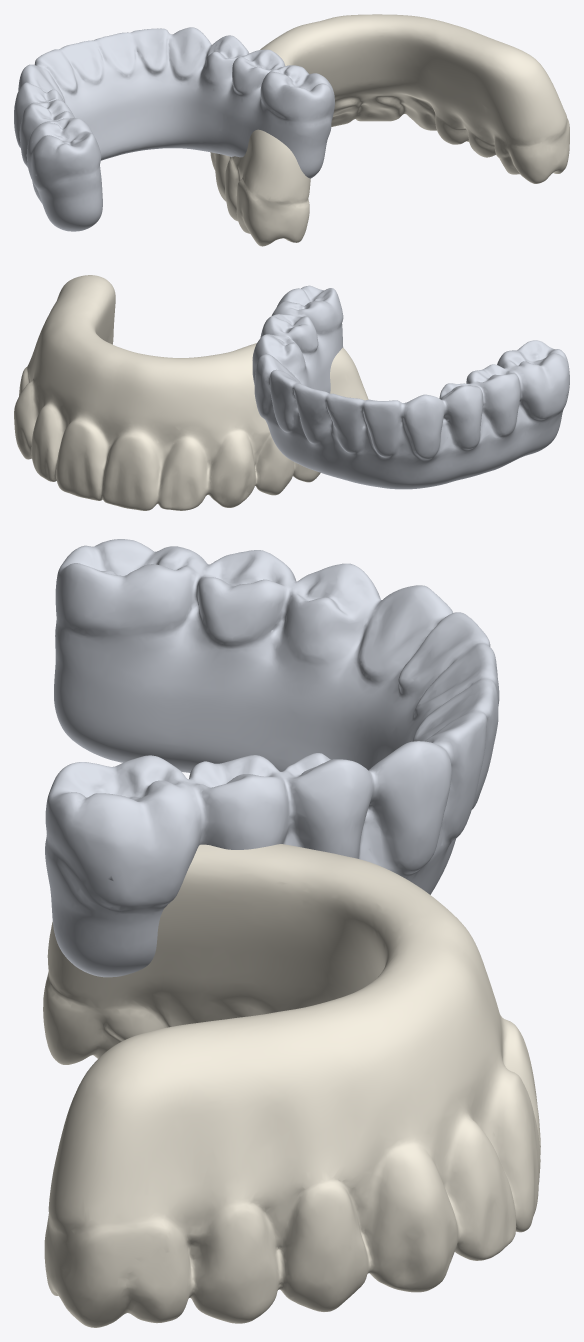
Rendered from oclusion-clase1-ejemplo.glb.
3 renders of one model, top to bottom at view 1: azimuth 30°, elevation 25°; view 2: azimuth 150°, elevation 25°; view 3: azimuth 270°, elevation 25°, orthographic. The views are drawn at different scales.
Visible parts, largest first — view 1: Waxup inferior|Lower waxup, Waxup superior|Upper waxup; view 2: Waxup superior|Upper waxup, Waxup inferior|Lower waxup; view 3: Waxup superior|Upper waxup, Waxup inferior|Lower waxup.
Boxes of the visible parts, x1=… form: Waxup inferior|Lower waxup: x1=14, y1=27, x2=334, y2=231; Waxup superior|Upper waxup: x1=210, y1=14, x2=569, y2=246; Waxup superior|Upper waxup: x1=14, y1=275, x2=368, y2=510; Waxup inferior|Lower waxup: x1=252, y1=285, x2=569, y2=489; Waxup superior|Upper waxup: x1=43, y1=844, x2=540, y2=1327; Waxup inferior|Lower waxup: x1=45, y1=539, x2=499, y2=977.
Bounding box in the file's own units: 79.91 × 23.36 × 32.94.
